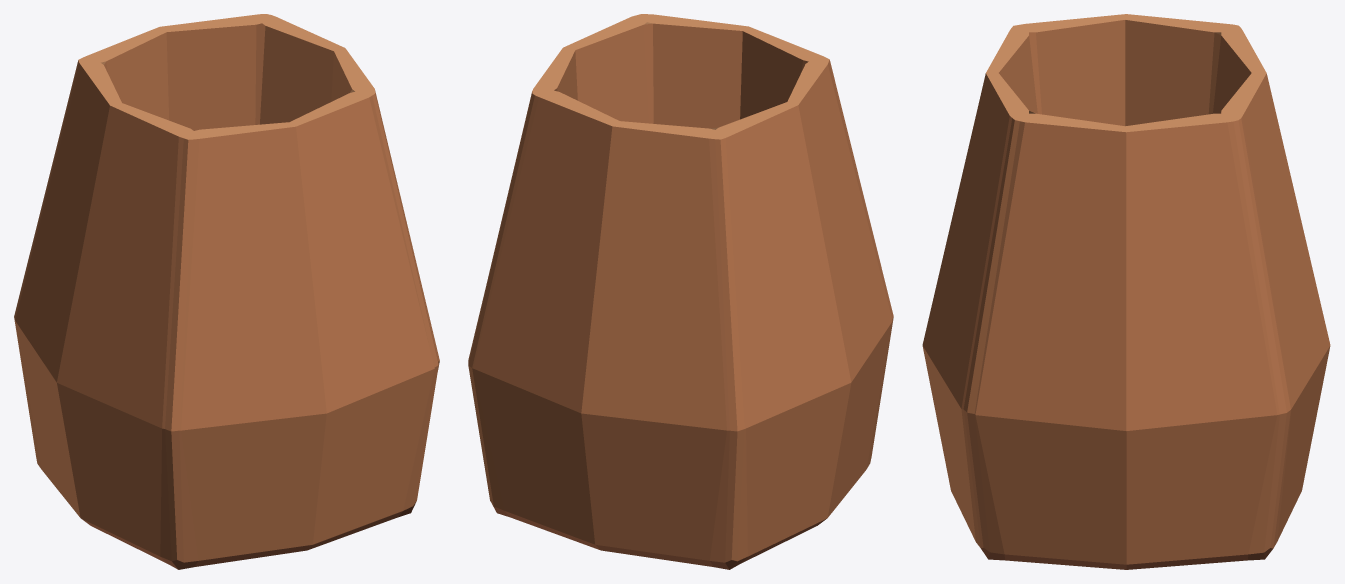
The model's file is FiredPot.glb.
3 views of the same model, side by side, from view 1: azimuth 30°, elevation 25°; view 2: azimuth 150°, elevation 25°; view 3: azimuth 270°, elevation 25° (orthographic). The views are drawn at different scales.
Visible parts, largest first — view 1: FiredPot; view 2: FiredPot; view 3: FiredPot.
Part boxes in pixels (bbox=[...]): FiredPot: bbox=[14, 14, 439, 569]; FiredPot: bbox=[468, 14, 893, 569]; FiredPot: bbox=[922, 14, 1330, 569].
Bounding box in the file's own units: 0.2142 × 0.2491 × 0.2152.
